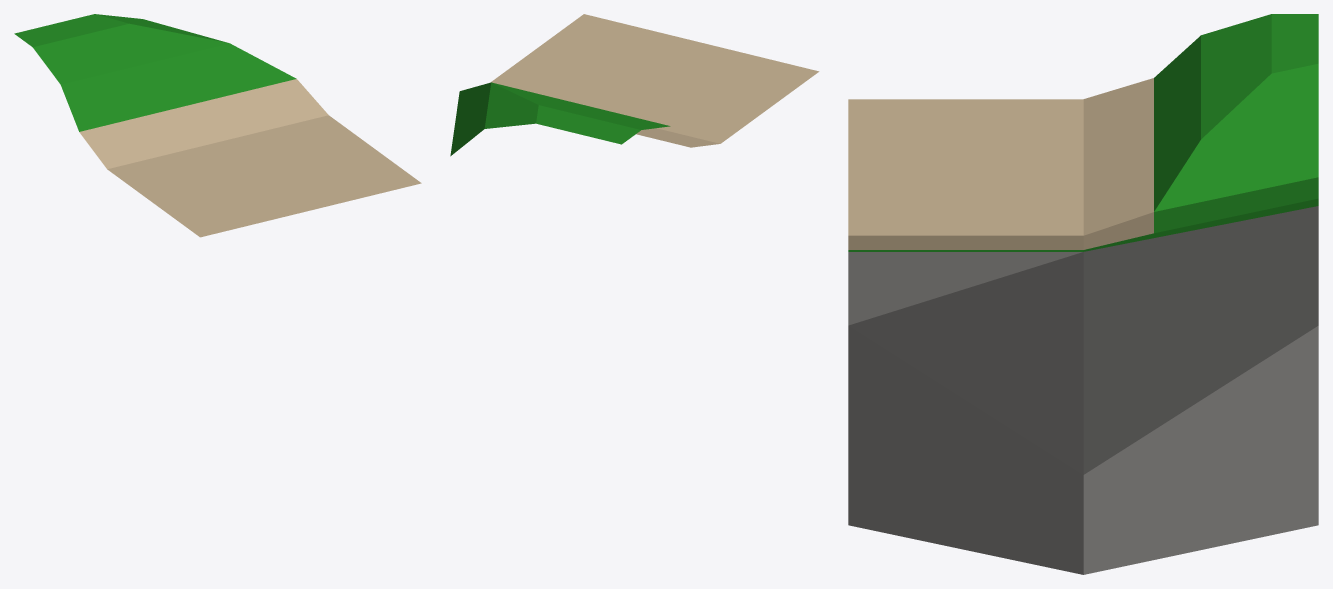
The model's file is Cliff_Terrain_Side_Falloff_Edge.glb.
3 views of the same model, side by side, from view 1: azimuth 30°, elevation 25°; view 2: azimuth 150°, elevation 25°; view 3: azimuth 270°, elevation 25° (orthographic). The views are drawn at different scales.
Parts seen in each view (by area): view 1: Cliff_Terrain_Side_Falloff_Edge; view 2: Cliff_Terrain_Side_Falloff_Edge; view 3: Cliff_Terrain_Side_Falloff_Edge.
Boxes of the visible parts, x1,y1,x2,y2 form: Cliff_Terrain_Side_Falloff_Edge: [14, 14, 421, 237]; Cliff_Terrain_Side_Falloff_Edge: [450, 14, 819, 156]; Cliff_Terrain_Side_Falloff_Edge: [848, 14, 1318, 574].
Bounding box in the file's own units: 0.6875 × 1.2 × 1.
